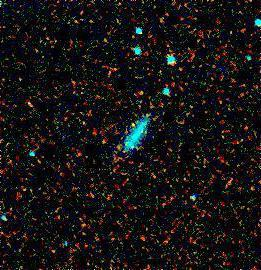star: (117, 109, 147, 139)
